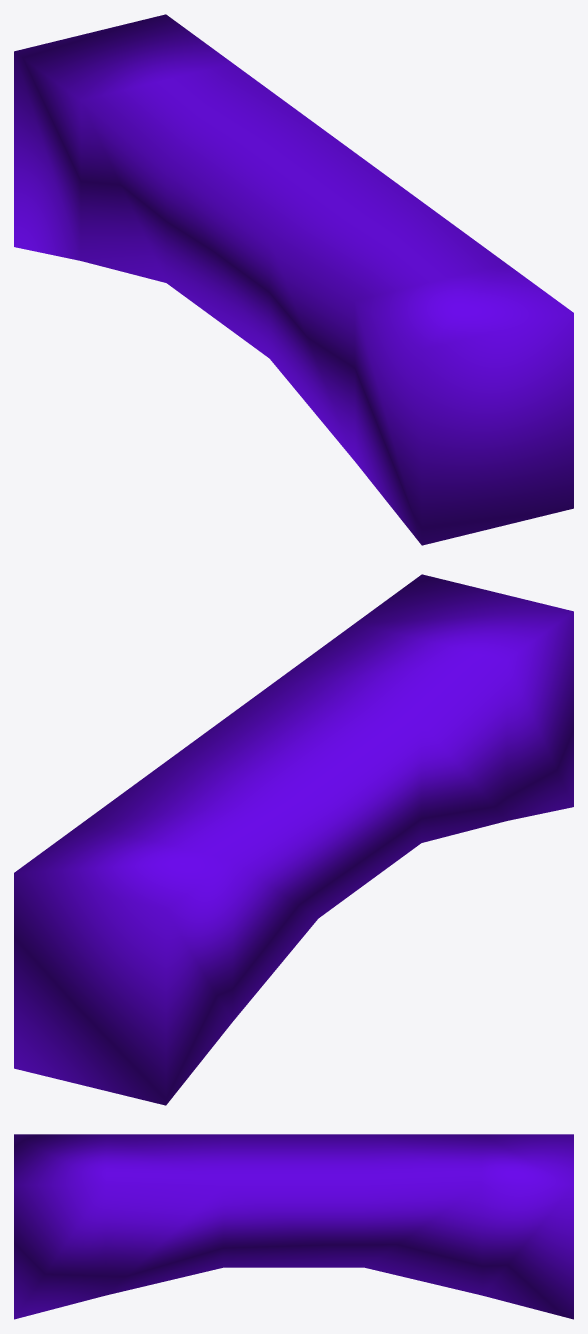
File: Gateway_05_B.fbx
3 renders of one model, top to bottom at view 1: azimuth 30°, elevation 25°; view 2: azimuth 150°, elevation 25°; view 3: azimuth 270°, elevation 25°, orthographic. The views are drawn at different scales.
Parts seen in each view (by area): view 1: Gateway_05_B; view 2: Gateway_05_B; view 3: Gateway_05_B.
Part boxes in pixels (x1,y1,x2,y2): Gateway_05_B: (14, 14, 573, 545); Gateway_05_B: (14, 574, 573, 1105); Gateway_05_B: (14, 1134, 573, 1319).
Size of the model in its own units: 104 by 127 by 481.
